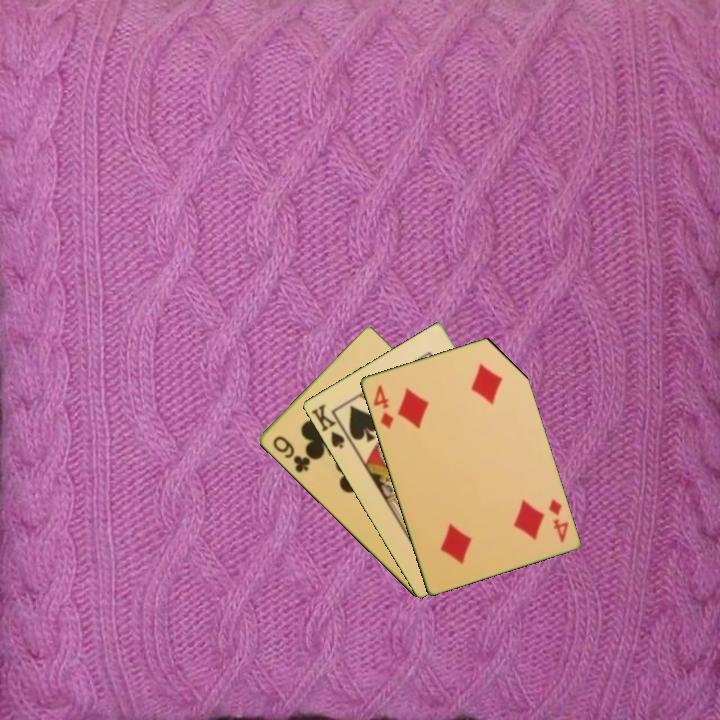4d: (370, 381, 396, 431), (545, 495, 571, 545)
9c: (269, 432, 313, 476)
Ks: (307, 400, 347, 451)
